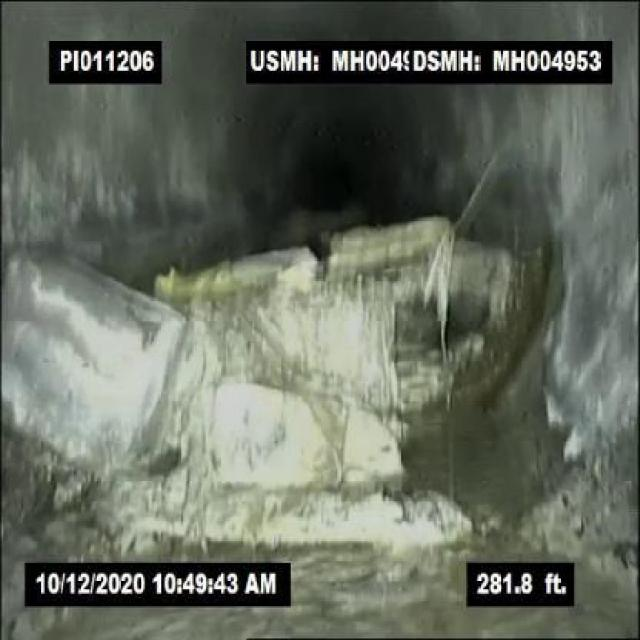Obstacle: (0, 207, 575, 532)
